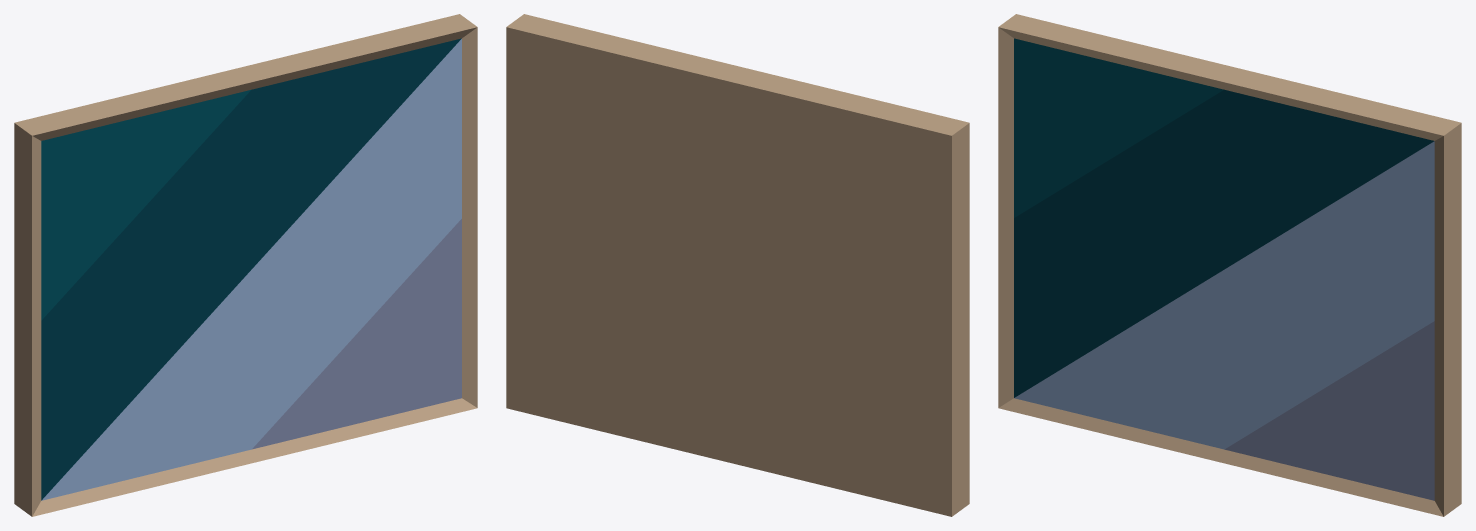
File: Accesories_Frame_I.glb
The picture shows the model from 3 angles, left to right: view 1: azimuth 30°, elevation 25°; view 2: azimuth 150°, elevation 25°; view 3: azimuth 330°, elevation 25°; orthographic projection.
Visible parts, largest first — view 1: Accesories_Frame_I; view 2: Accesories_Frame_I; view 3: Accesories_Frame_I.
Boxes of the visible parts, x1=… form: Accesories_Frame_I: x1=14, y1=14, x2=477, y2=516; Accesories_Frame_I: x1=506, y1=14, x2=969, y2=516; Accesories_Frame_I: x1=998, y1=14, x2=1461, y2=516.
Size of the model in its own units: 0.611 by 0.4993 by 0.0426.
Materials: 1 (1 with a texture image).
